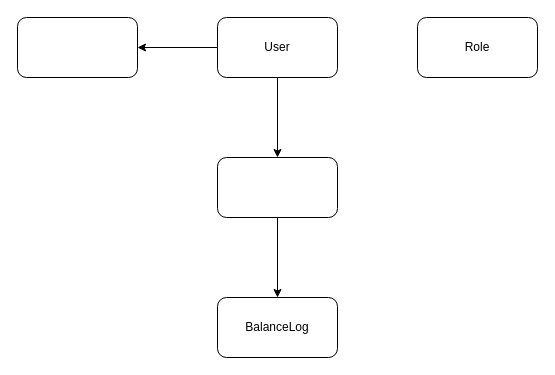
This 555x375 diagram has some shape labels left out. The shapes that lost their labels are listed below. From the top down, each one's centre as x and y in pixels, then its label:
At pixel 77 47: "Auth".
At pixel 277 187: "Task".
